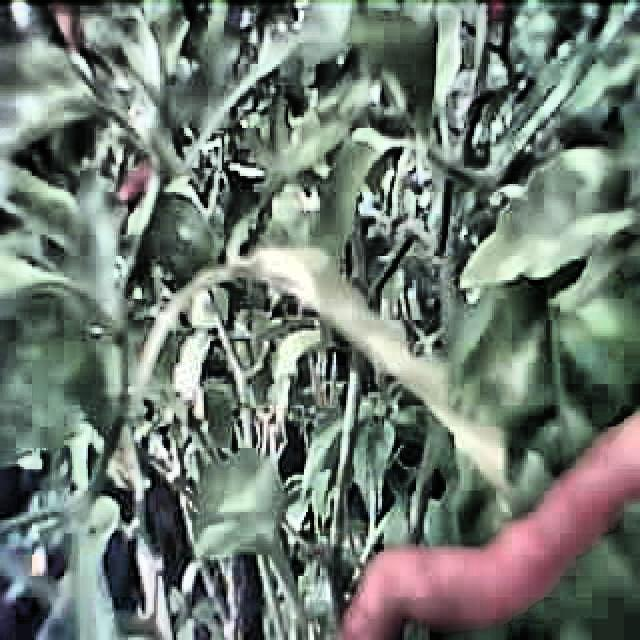Cabai: (346, 400, 638, 640)
